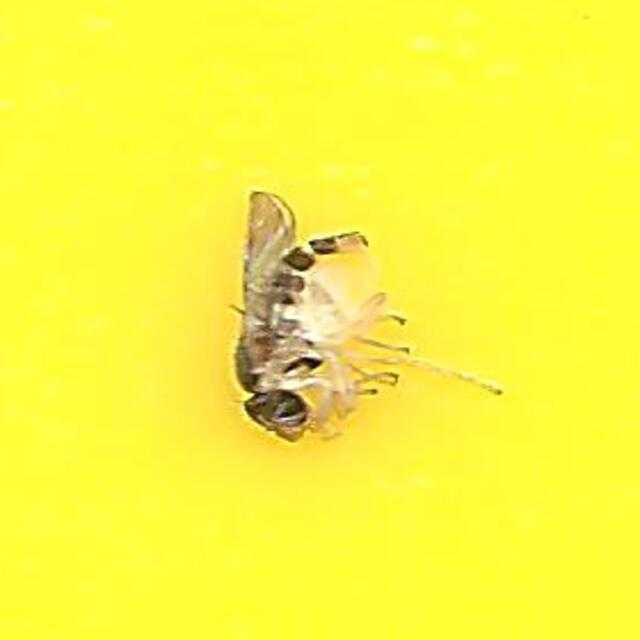Brachycera: (229, 190, 411, 450)
